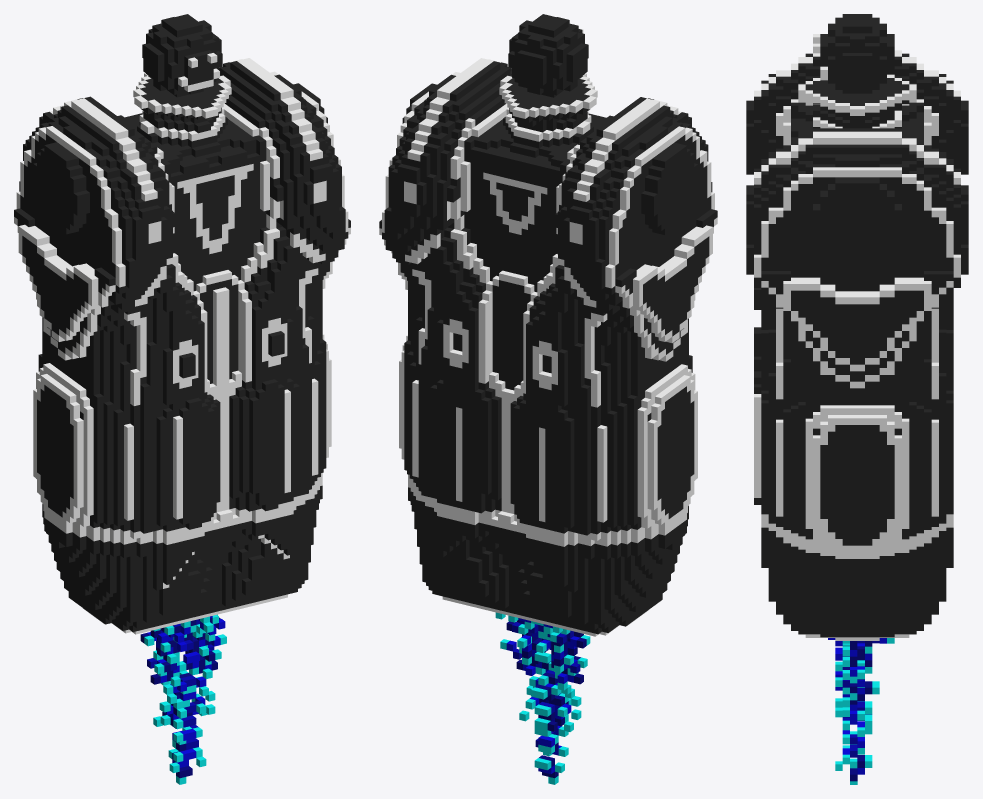
The model's file is fisk_body.fbx.
The picture shows the model from 3 angles, left to right: view 1: azimuth 30°, elevation 25°; view 2: azimuth 150°, elevation 25°; view 3: azimuth 270°, elevation 25°; orthographic projection.
Parts seen in each view (by area): view 1: fisk-4; view 2: fisk-4; view 3: fisk-4.
Boxes of the visible parts, x1,y1,x2,y2 form: fisk-4: [14, 14, 350, 784]; fisk-4: [379, 14, 717, 784]; fisk-4: [746, 14, 968, 784].
Size of the model in its own units: 40 by 114 by 30.
